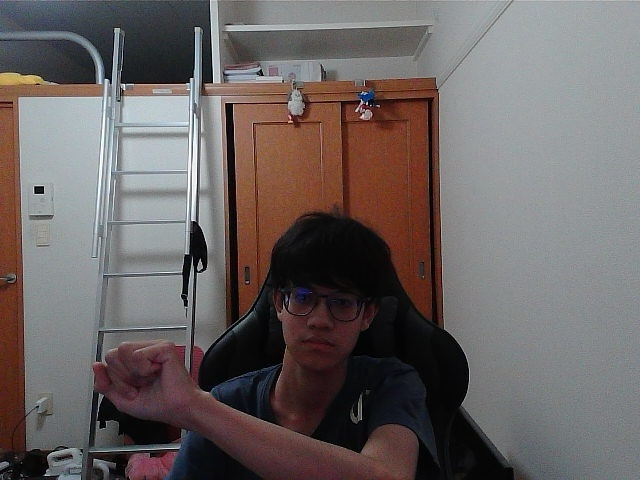closed_palm: (98, 350, 172, 413)
